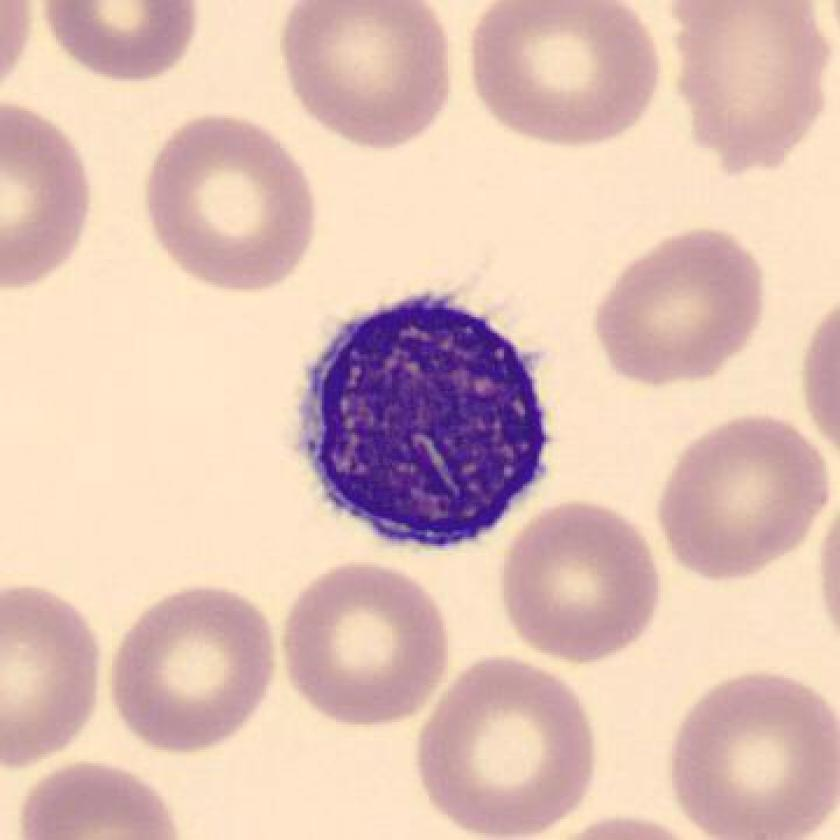lymphocyte: (279, 279, 566, 568)
